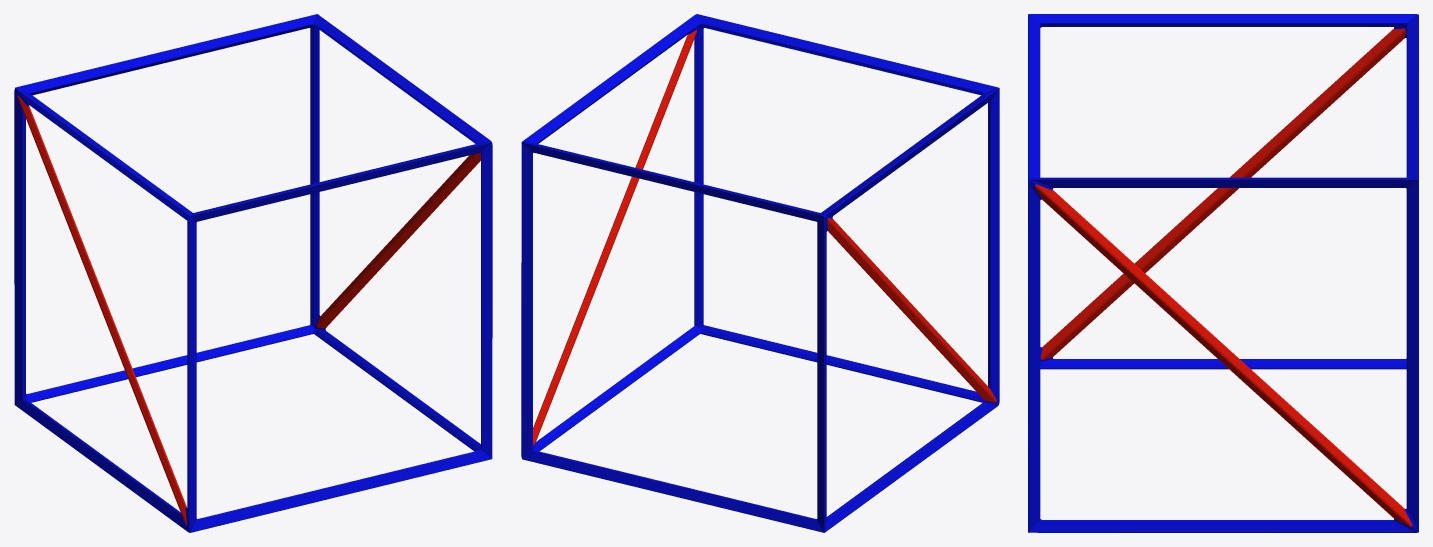
The picture shows the model from 3 angles, left to right: view 1: azimuth 30°, elevation 25°; view 2: azimuth 150°, elevation 25°; view 3: azimuth 270°, elevation 25°; orthographic projection. The views are drawn at different scales.
Visible parts, largest first — view 1: Куб; view 2: Куб; view 3: Куб.
Boxes of the visible parts, left/top/right/bottom form: Куб: left=14, top=14, right=492, bottom=532; Куб: left=521, top=14, right=999, bottom=532; Куб: left=1028, top=14, right=1418, bottom=532.
Size of the model in its own units: 4.09 by 4.09 by 4.09.
